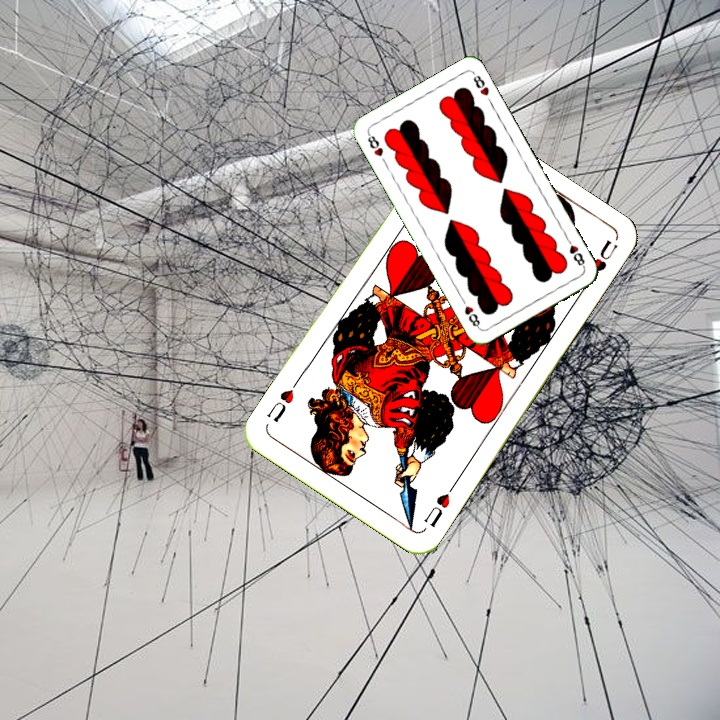H8: (562, 233, 588, 270), (363, 129, 386, 159)
HU: (420, 480, 458, 530)
